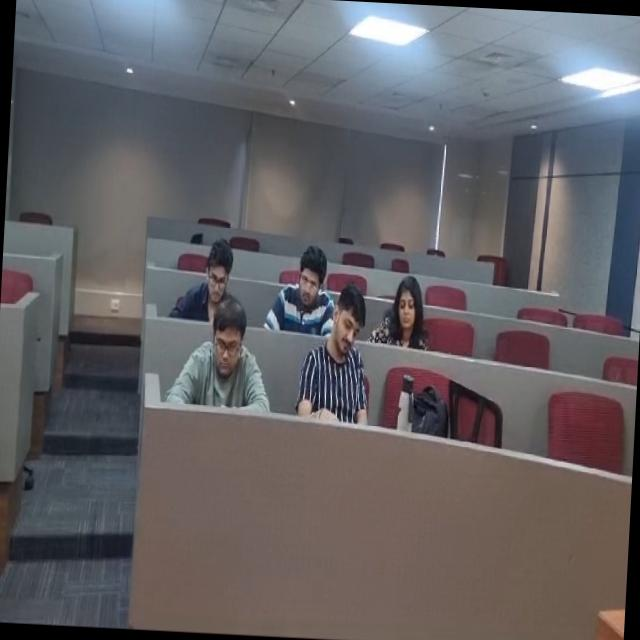non-cheating: (182, 295, 268, 416), (314, 285, 373, 427), (266, 242, 332, 331), (184, 227, 247, 316), (383, 260, 440, 343)
